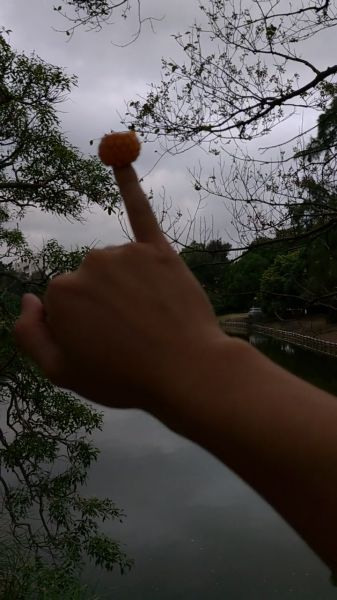eggs: (96, 133, 143, 166)
